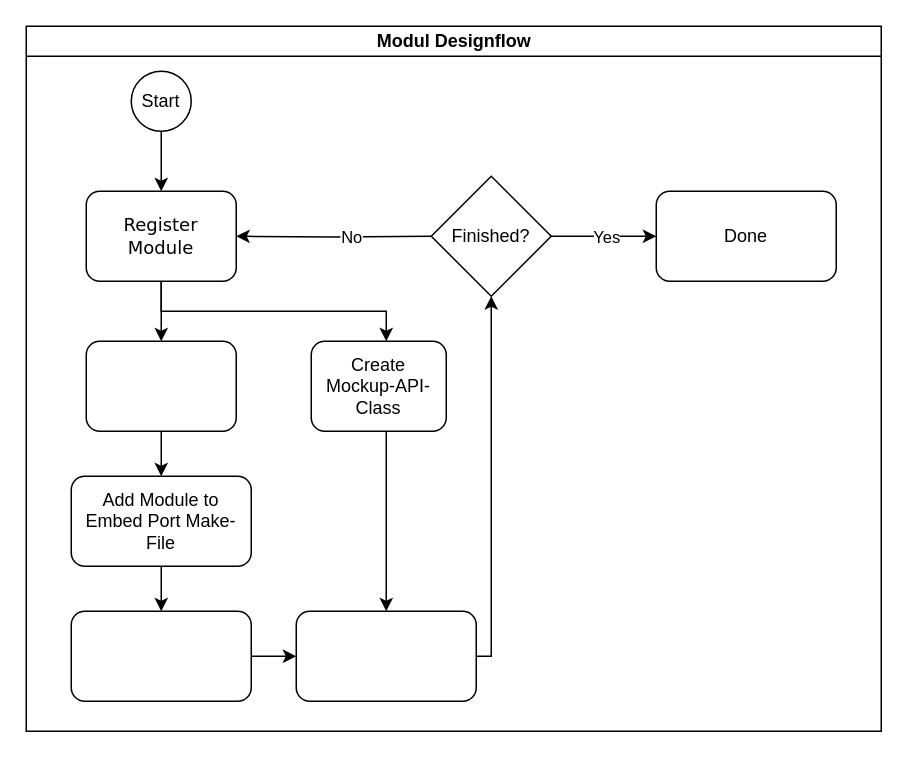
Some shapes in this 908 by 758 pixel diagram are drawn without their labels. The shapes that lost their labels are listed below. From the top down, each one's centre as x and y in pixels, then its label:
[160,385]: Add Module Functions/Classes & Constants
[160,655]: Rebuild MP-Embed- Port
[385,655]: Test Module in Windows Environment
